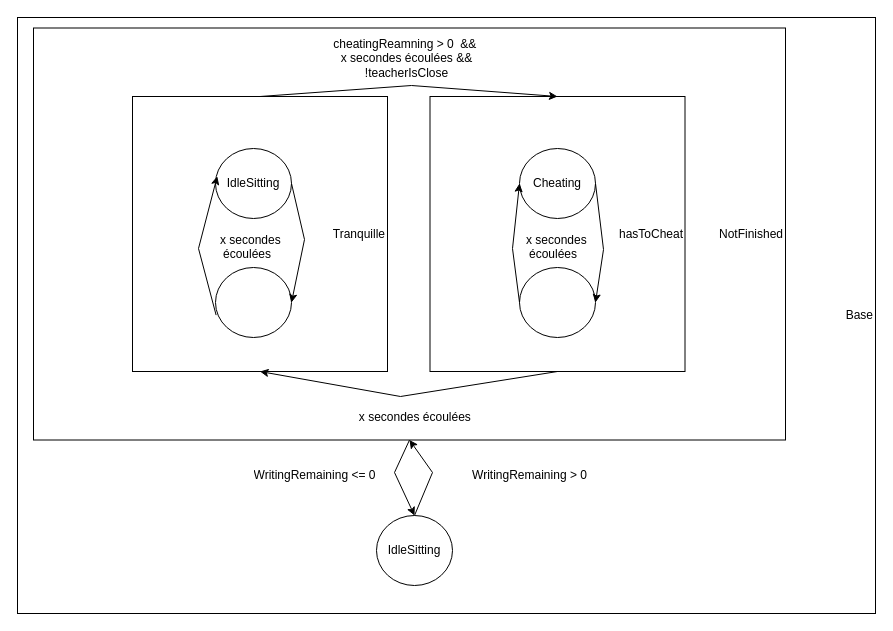
Some shapes in this 893 by 631 pixel diagram are drawn without their labels. Here are the shapes that lost their labels. From the top down, the centre of each, then its label:
At point (253, 302): "Writing".
At point (557, 302): "Laughing".
